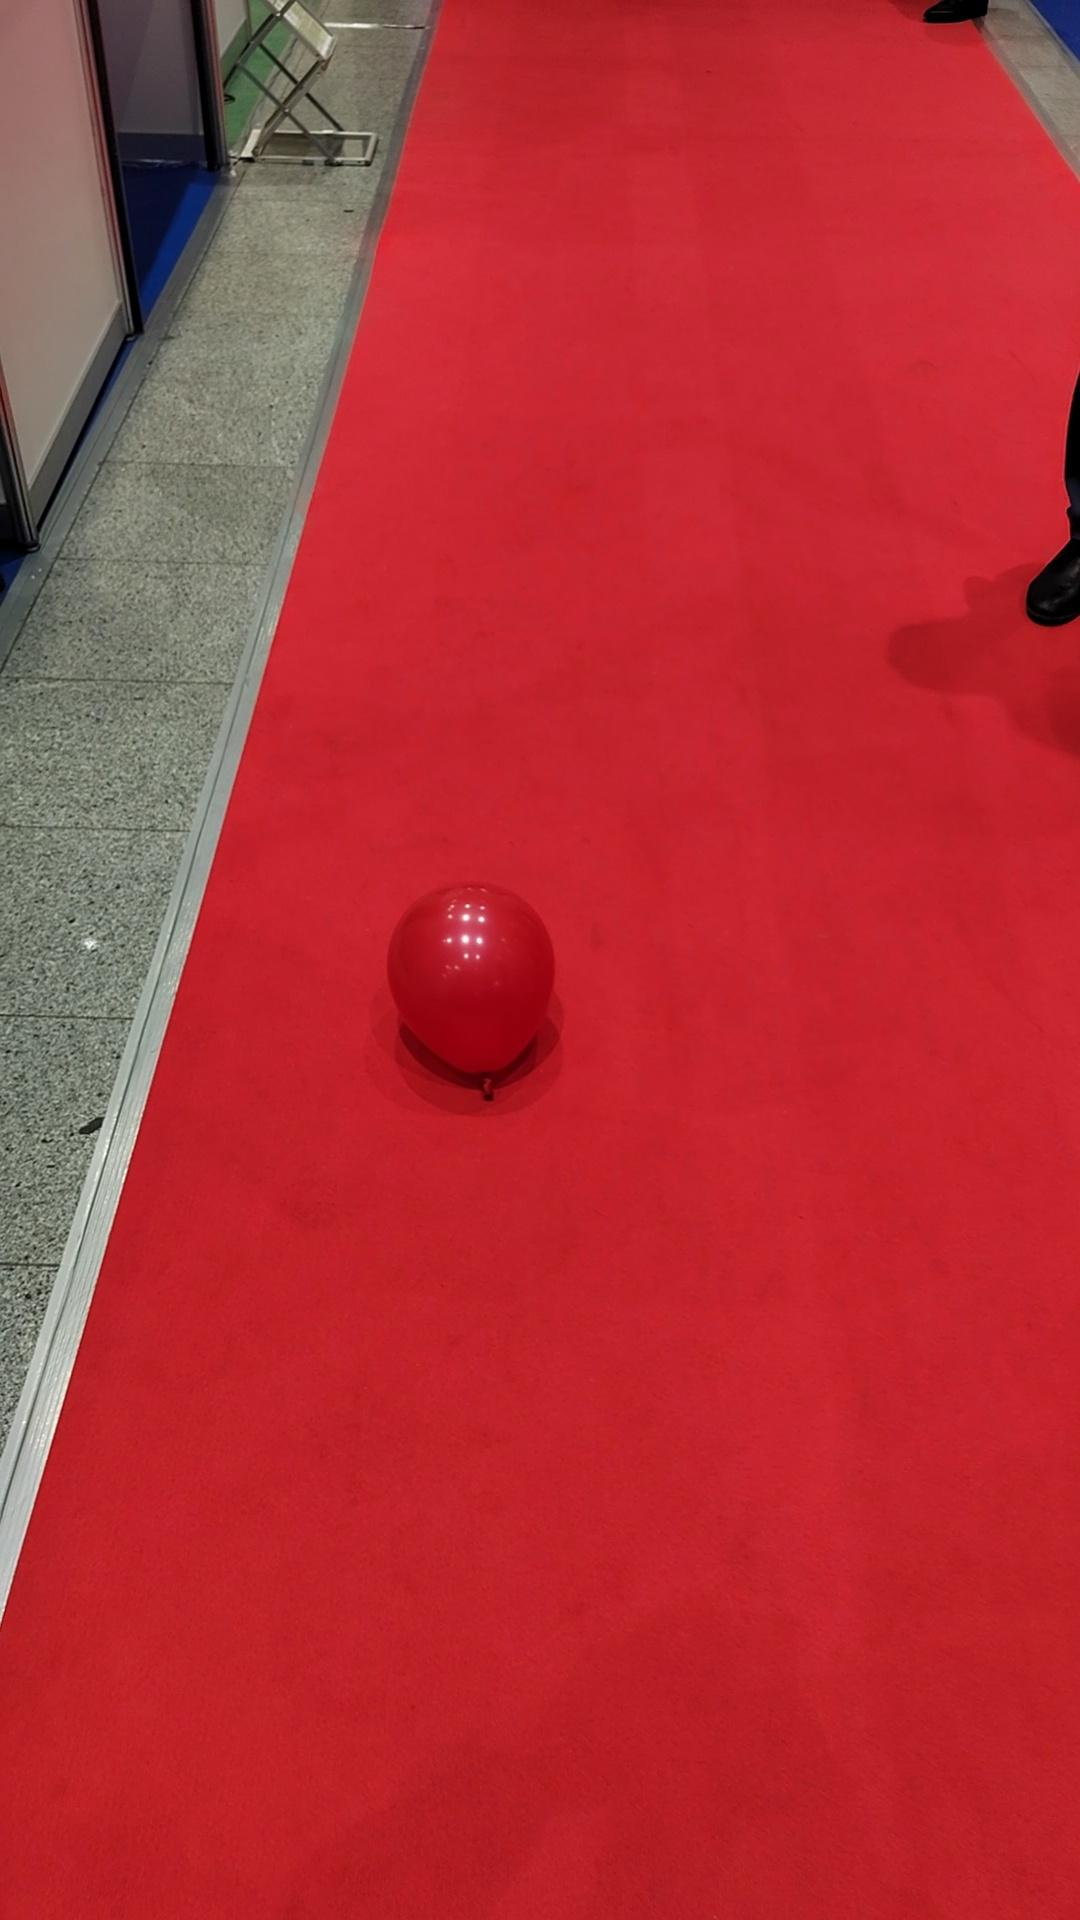red: (386, 885, 555, 1084)
